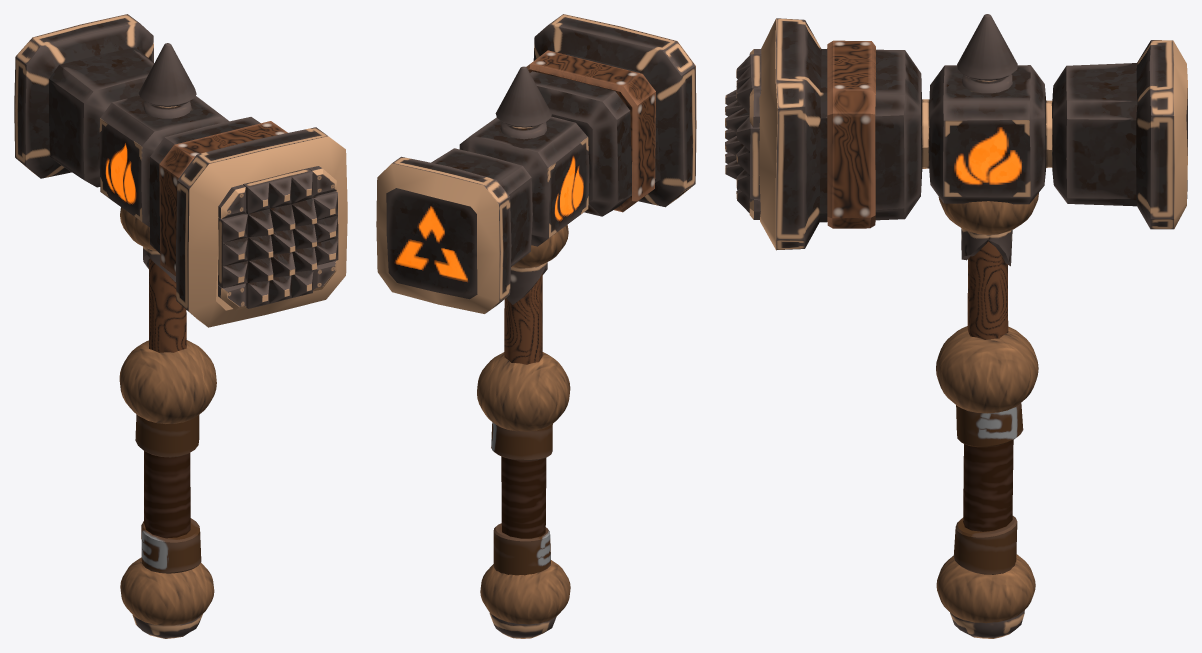
Rendered from hammer.glb.
3 views of the same model, side by side, from view 1: azimuth 30°, elevation 25°; view 2: azimuth 150°, elevation 25°; view 3: azimuth 270°, elevation 25° (orthographic). The views are drawn at different scales.
Visible parts, largest first — view 1: head_L, head_spikes_L, fur_mid_L, fur_bottom_L, head_wood_L, shaft_cloth_L, head_spike_L, shaft_wood_L, head_spikes_holder_L, shaft_belt_bottom_L, shaft_belt_top_L, shaft_head_L (+1 smaller); view 2: head_L, fur_mid_L, head_wood_L, fur_bottom_L, shaft_cloth_L, shaft_wood_L, head_spike_L, shaft_belt_bottom_L, shaft_belt_top_L, fur_top_L, shaft_to_head_L, shaft_head_L; view 3: head_L, head_wood_L, fur_mid_L, fur_bottom_L, shaft_cloth_L, head_spikes_L, shaft_wood_L, head_spike_L, shaft_belt_bottom_L, fur_top_L, shaft_belt_top_L, shaft_to_head_L (+2 smaller).
Boxes of the visible parts, <box> form: head_L: <box>14,14,347,327</box>; head_spikes_L: <box>218,168,338,308</box>; fur_mid_L: <box>119,340,216,423</box>; fur_bottom_L: <box>120,557,214,625</box>; head_wood_L: <box>159,121,287,276</box>; shaft_cloth_L: <box>144,451,190,538</box>; head_spike_L: <box>138,43,196,118</box>; shaft_wood_L: <box>149,258,186,352</box>; head_spikes_holder_L: <box>218,166,336,310</box>; shaft_belt_bottom_L: <box>141,518,201,573</box>; shaft_belt_top_L: <box>135,414,199,457</box>; shaft_head_L: <box>132,614,202,638</box>; head_L: <box>376,14,696,313</box>; fur_mid_L: <box>477,352,570,431</box>; head_wood_L: <box>526,50,655,212</box>; fur_bottom_L: <box>480,560,570,624</box>; shaft_cloth_L: <box>501,456,546,538</box>; shaft_wood_L: <box>504,273,542,364</box>; head_spike_L: <box>495,66,551,139</box>; shaft_belt_bottom_L: <box>493,523,550,575</box>; shaft_belt_top_L: <box>491,422,552,460</box>; fur_top_L: <box>511,225,568,268</box>; shaft_to_head_L: <box>506,262,547,304</box>; shaft_head_L: <box>489,612,556,638</box>; head_L: <box>759,18,1187,250</box>; head_wood_L: <box>827,40,875,228</box>; fur_mid_L: <box>936,326,1038,413</box>; fur_bottom_L: <box>936,554,1035,623</box>; shaft_cloth_L: <box>963,440,1013,531</box>; head_spikes_L: <box>725,54,761,212</box>; shaft_wood_L: <box>967,241,1008,339</box>; head_spike_L: <box>957,14,1017,93</box>; shaft_belt_bottom_L: <box>953,516,1017,574</box>; fur_top_L: <box>938,193,1038,234</box>; shaft_belt_top_L: <box>956,403,1023,447</box>; shaft_to_head_L: <box>961,228,1012,266</box>.
Bounding box in the file's own units: 0.1326 × 0.4698 × 0.3196.
Materials: 1 (1 with a texture image).
